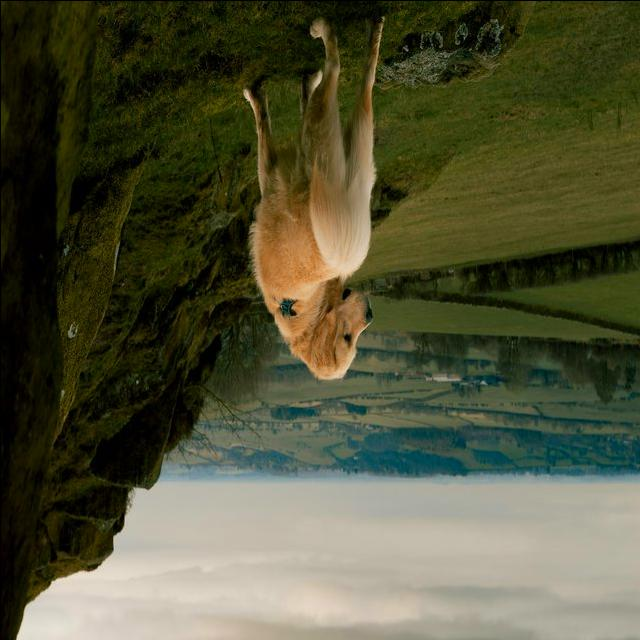retriever: (241, 13, 386, 382)
